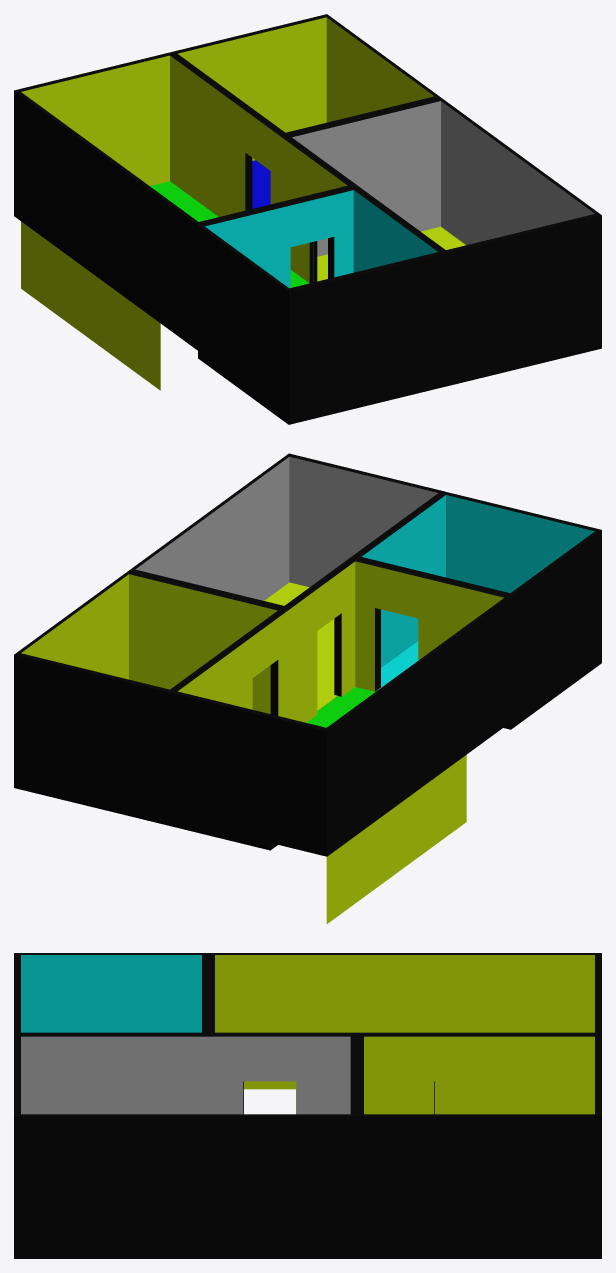
The model's file is Etage2.fbx.
3 views of the same model, one above another, from view 1: azimuth 30°, elevation 25°; view 2: azimuth 150°, elevation 25°; view 3: azimuth 270°, elevation 25° (orthographic). The views are drawn at different scales.
Visible parts, largest first — view 1: FlurWand03, BadWand4, SchlafzimmerWand2, FlurWand01, SchlafzimmerWand, BadWand3, SchlafzimmerWand4, FlurWand04, AZWand1, BadWand1, AZWand2, BadWand2 (+8 smaller); view 2: FlurWand03, AZWand1, FlurWand04, FlurWand01, SchlafzimmerWand, BadWand3, AzWand3, SchlafzimmerWand2, BadWand4, FlurWand05, AZWand2, BadWand2 (+7 smaller); view 3: SchlafzimmerWand, AZWand2, FlurWand03, SchlafzimmerWand3, AzWand4, BadWand3, SchlafzimmerBoden, AzBoden, FlurWand01, SchlafzimmerWand4, BadWand4, BadWand2 (+6 smaller).
Boxes of the visible parts, x1,y1,x2,y2 form: FlurWand03: (14,90,198,390); BadWand4: (289,252,445,416); SchlafzimmerWand2: (445,214,601,378); FlurWand01: (170,52,353,283); SchlafzimmerWand: (441,98,600,244); BadWand3: (198,225,289,416); SchlafzimmerWand4: (286,98,441,256); FlurWand04: (14,52,170,185); AZWand1: (171,14,326,160); BadWand1: (199,187,354,288); AZWand2: (326,14,440,122); BadWand2: (353,187,444,272); FlurWand03: (326,596,511,923); AZWand1: (14,653,170,818); FlurWand04: (170,691,326,856); FlurWand01: (171,558,355,722); SchlafzimmerWand: (129,453,289,600); BadWand3: (510,530,601,721); AzWand3: (128,571,284,713); SchlafzimmerWand2: (289,453,444,587); BadWand4: (445,492,601,593); FlurWand05: (355,558,509,691); AZWand2: (14,571,128,679); BadWand2: (355,492,445,667); SchlafzimmerWand: (14,1114,357,1250); AZWand2: (357,1114,601,1250); FlurWand03: (209,953,600,1114); SchlafzimmerWand3: (14,1034,356,1114); AzWand4: (358,1034,601,1114); BadWand3: (15,953,207,1032); SchlafzimmerBoden: (14,1250,357,1258); AzBoden: (357,1250,601,1258); FlurWand01: (209,1032,600,1114); SchlafzimmerWand4: (350,1035,357,1115); BadWand4: (14,953,20,1034); BadWand2: (15,1032,207,1034).
Size of the model in its own units: 7821 by 4695 by 11895.
